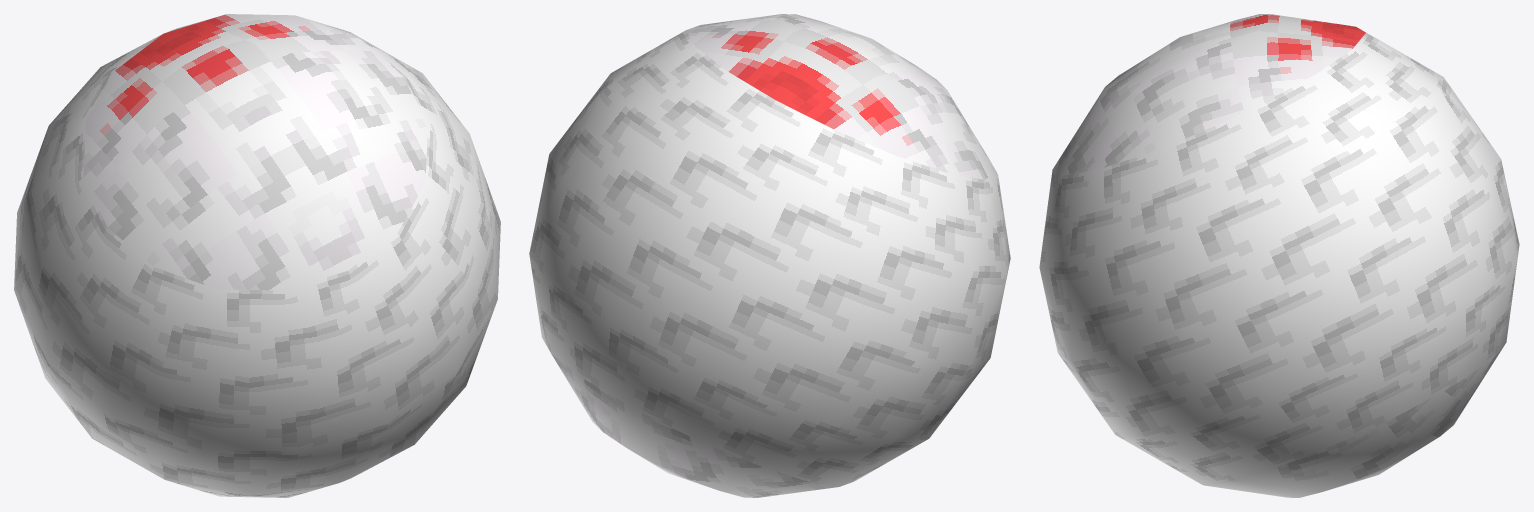
File: box_ball__box_ball_glf.glb
The picture shows the model from 3 angles, left to right: view 1: azimuth 30°, elevation 25°; view 2: azimuth 150°, elevation 25°; view 3: azimuth 270°, elevation 25°; orthographic projection.
Parts seen in each view (by area): view 1: polygon0, polygon1; view 2: polygon0, polygon1; view 3: polygon0, polygon1.
Part boxes in pixels (left/top/right/bottom): polygon0: left=14, top=16, right=500, bottom=497; polygon1: left=83, top=14, right=427, bottom=290; polygon0: left=529, top=30, right=1010, bottom=486; polygon1: left=551, top=14, right=997, bottom=497; polygon0: left=1039, top=31, right=1519, bottom=485; polygon1: left=1052, top=14, right=1504, bottom=497.
Bounding box in the file's own units: 0.9846 × 0.9944 × 0.9877.
Materials: 2 (2 with a texture image).
